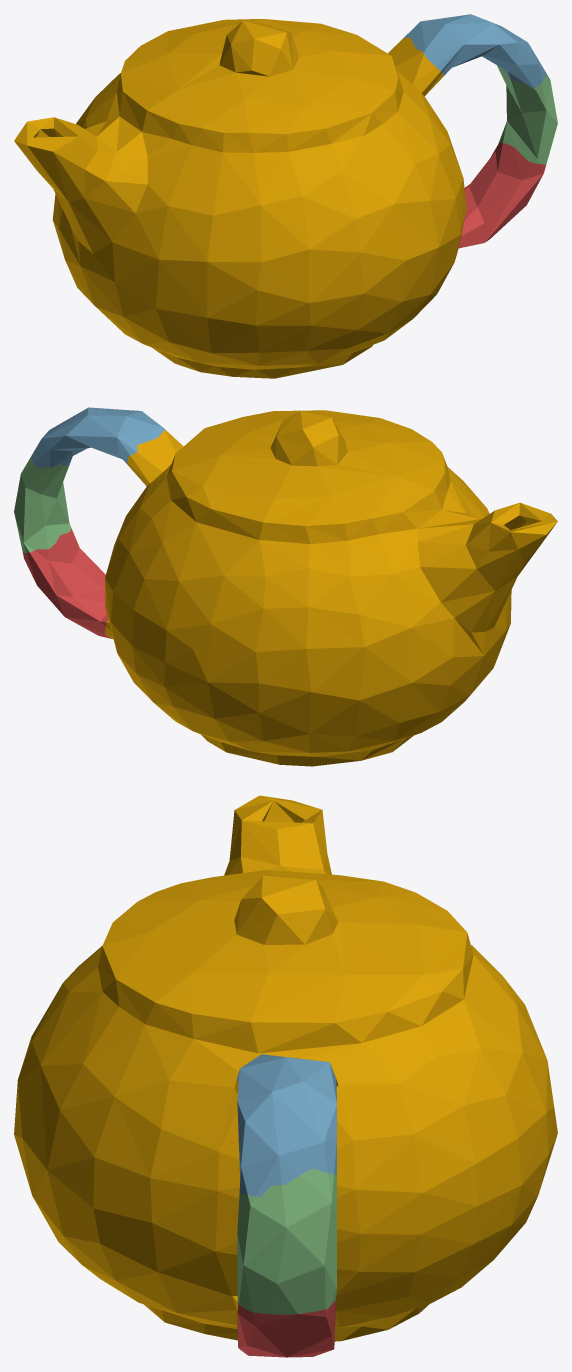
Rendered from fractured_43_4pcs.glb.
3 renders of one model, top to bottom at view 1: azimuth 30°, elevation 25°; view 2: azimuth 150°, elevation 25°; view 3: azimuth 270°, elevation 25°, orthographic. The views are drawn at different scales.
Parts seen in each view (by area): view 1: piece_0.obj, piece_2.obj, piece_1.obj, piece_3.obj; view 2: piece_0.obj, piece_1.obj, piece_2.obj, piece_3.obj; view 3: piece_0.obj, piece_3.obj, piece_2.obj, piece_1.obj.
Part boxes in pixels (x1,y1,x2,y2): piece_0.obj: (14,19,466,378); piece_2.obj: (403,14,546,88); piece_1.obj: (458,141,545,248); piece_3.obj: (497,65,557,164); piece_0.obj: (104,410,557,766); piece_1.obj: (22,528,110,638); piece_2.obj: (31,407,165,467); piece_3.obj: (14,457,71,553); piece_0.obj: (14,795,557,1341); piece_3.obj: (237,1169,336,1314); piece_2.obj: (237,1054,336,1196); piece_1.obj: (237,1298,336,1357).
Size of the model in its own units: 1 by 0.5443 by 0.6757.
